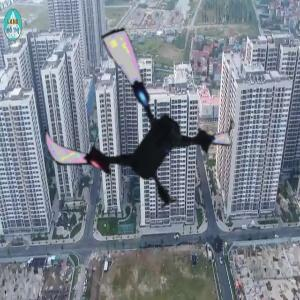drone: (35, 31, 231, 227)
